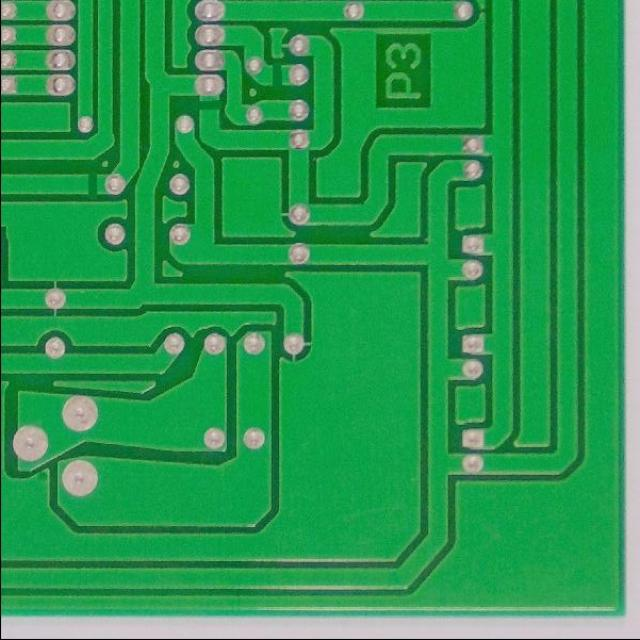Open_Circuit: (76, 158, 103, 208), (263, 54, 288, 98), (190, 94, 231, 118)
